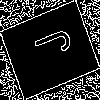J: (25, 25, 73, 65)
